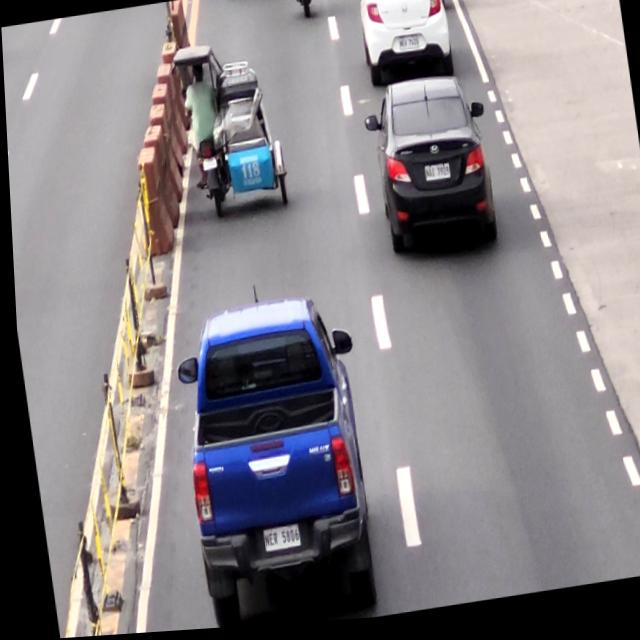Car: (162, 294, 381, 632), (358, 75, 503, 272), (347, 0, 458, 94)
License-Plate: (255, 527, 297, 556), (421, 167, 449, 189), (396, 38, 419, 56), (199, 157, 215, 173)
Tricycle: (172, 34, 290, 223)
